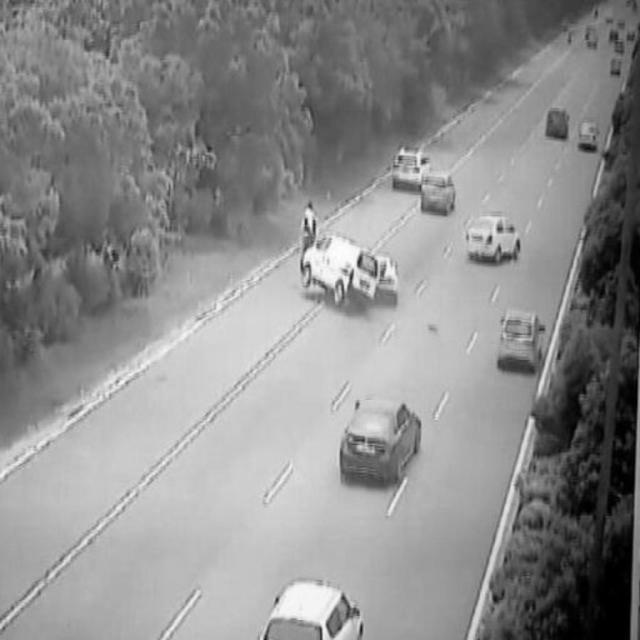accident: (299, 230, 402, 312)
vehicle: (333, 397, 427, 487), (258, 573, 369, 640), (495, 305, 551, 375), (462, 210, 526, 264), (389, 145, 434, 191), (417, 171, 455, 218), (541, 101, 575, 145), (573, 117, 599, 157)
